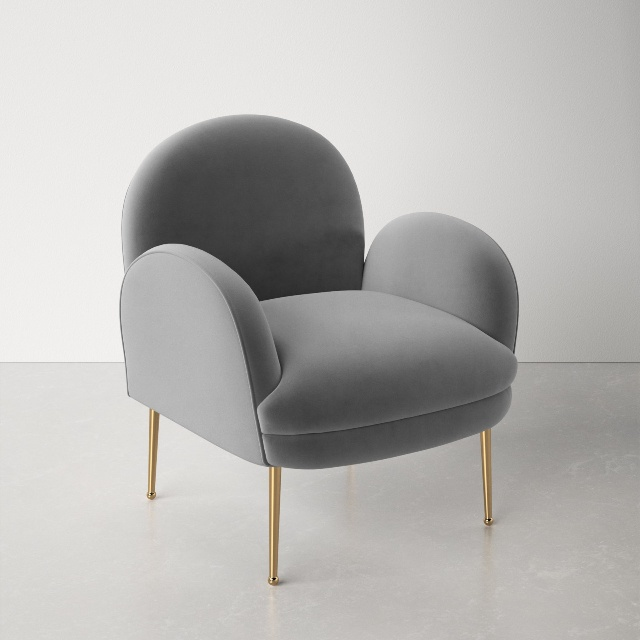obstacle: (120, 115, 518, 583)
